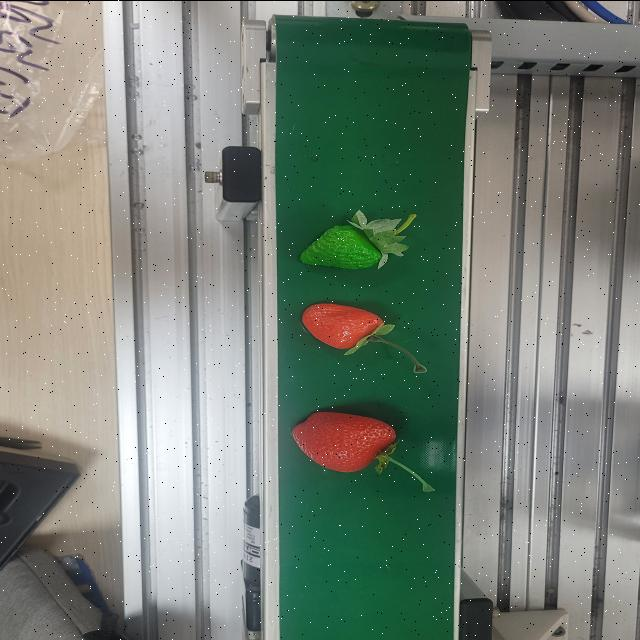Large Ripe Strawberry: (286, 407, 402, 476)
Small Ripe Strawberry: (299, 299, 401, 356)
Small Unripe Strawberry: (296, 208, 418, 272)
